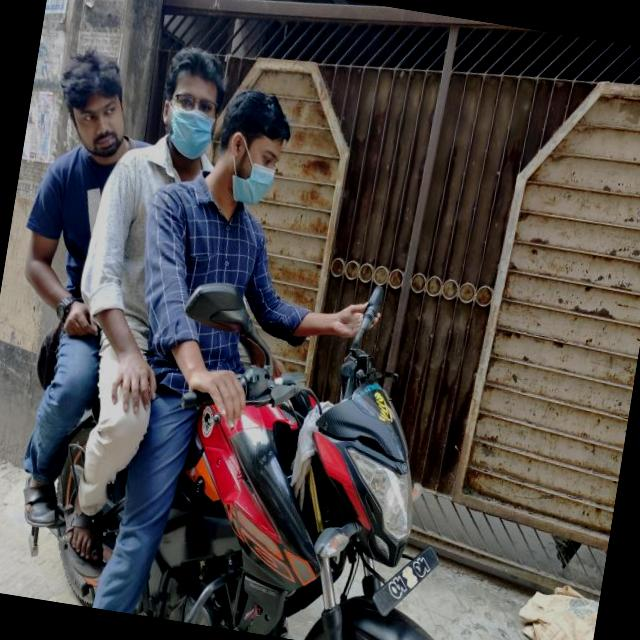motorcycle: (0, 284, 493, 640)
person: (107, 71, 304, 462), (58, 27, 234, 400), (0, 32, 139, 376)
